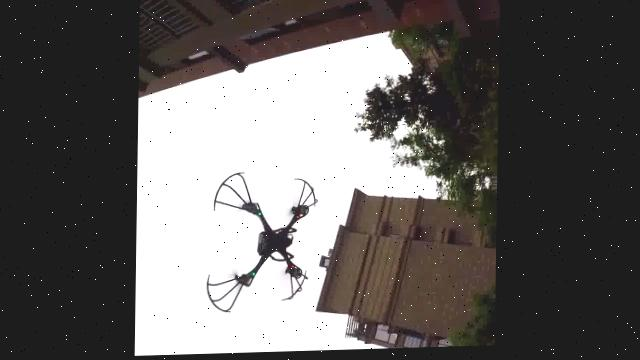drone: (197, 145, 329, 311)
